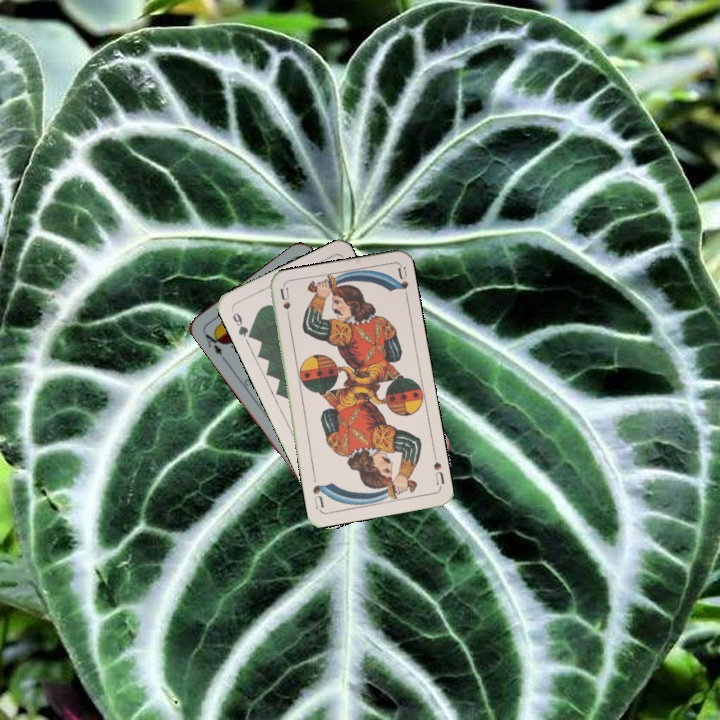EA: (200, 327, 228, 363)
G9: (227, 306, 256, 341)
SU: (276, 284, 293, 325), (429, 458, 447, 487)
